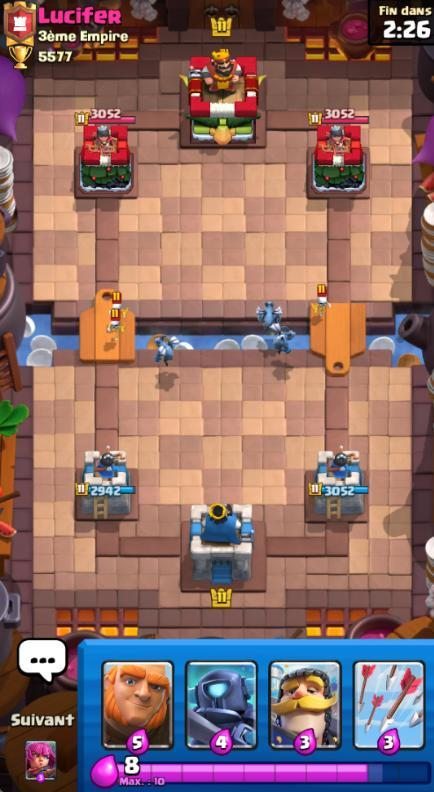enemy_skeletons: (308, 283, 336, 321), (105, 309, 128, 344), (105, 291, 128, 319)
player_minions: (146, 329, 194, 369), (254, 297, 286, 331), (265, 326, 298, 355)
